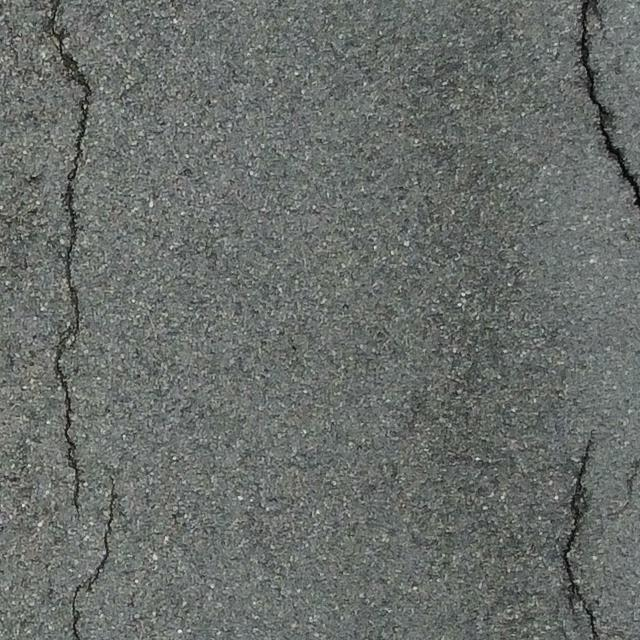LongitudinalCrack: (49, 3, 85, 518), (575, 1, 640, 207), (562, 427, 598, 637), (71, 475, 115, 640)
